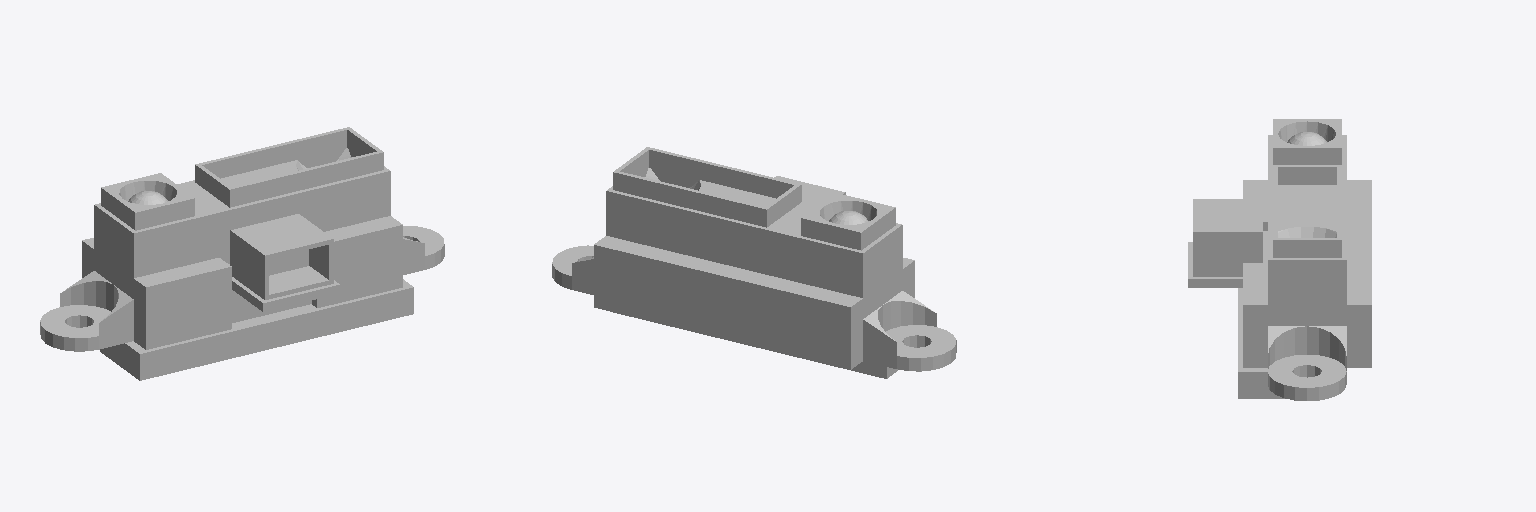
File: ET_scaled.obj
The picture shows the model from 3 angles: view 1: azimuth 30°, elevation 25°; view 2: azimuth 150°, elevation 25°; view 3: azimuth 270°, elevation 25°; orthographic projection.
Visible parts, largest first — view 1: ET; view 2: ET; view 3: ET.
Boxes of the visible parts, x1=… form: ET: x1=40, y1=127, x2=444, y2=380; ET: x1=552, y1=147, x2=956, y2=378; ET: x1=1188, y1=119, x2=1371, y2=400.
Bounding box in the file's own units: 1.77 × 0.6528 × 0.7104.